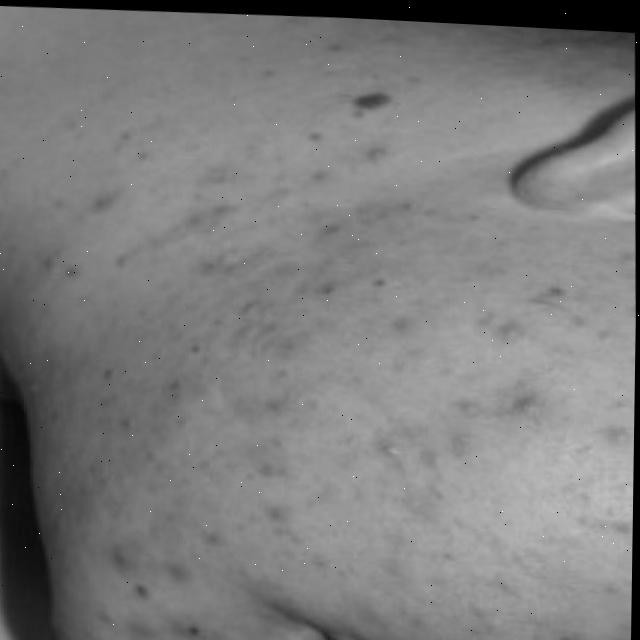Acne: (38, 108, 634, 640)
